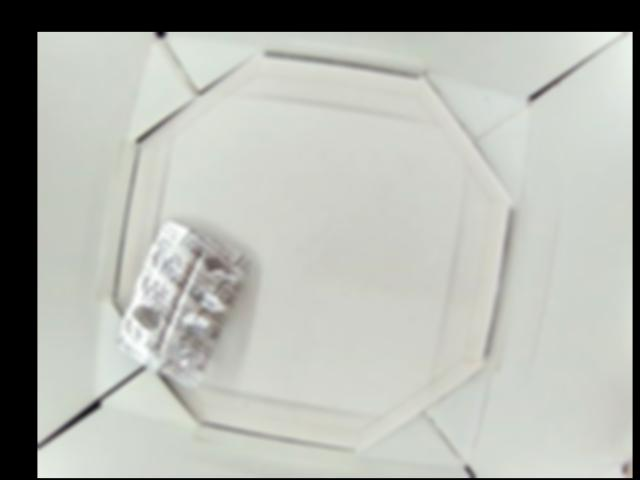Medicine: (114, 218, 251, 383)
